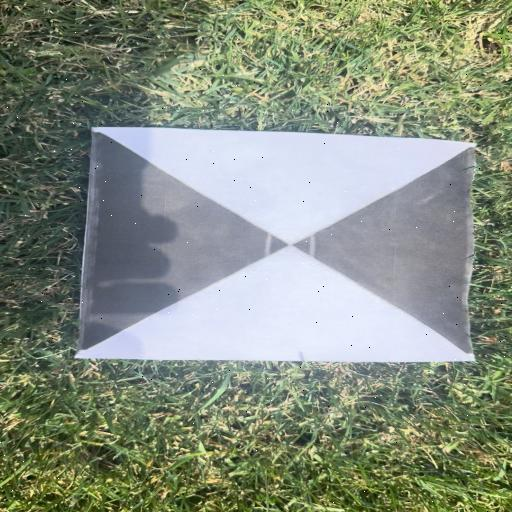target: (96, 128, 476, 361)
